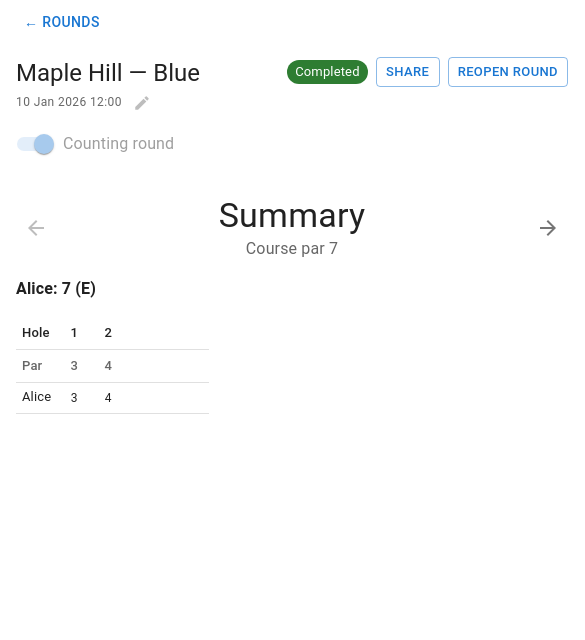
Test: RoundPage › reopens a completed round, restoring the score adjusters
The width and height of the screenshot is (585, 640).
Expected: the text "Completed" is shown, [295,64,360,79]
Click the button "Reopen round". click: (508,72)
box: [448,56,568,87]
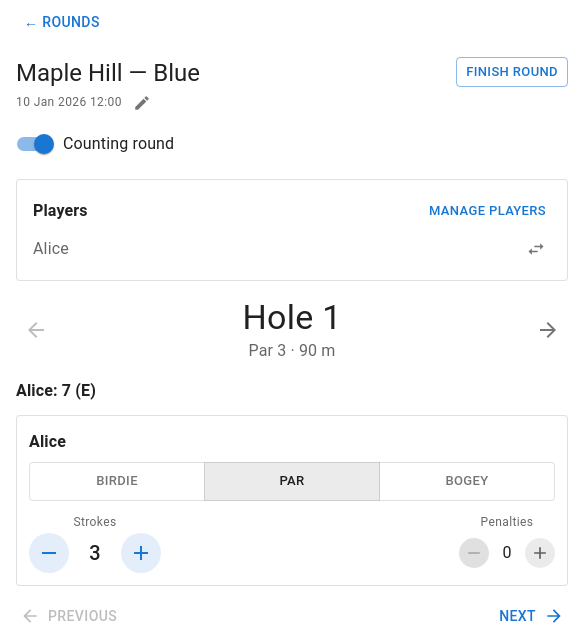
Expected: the button "Finish round" is shown, [456,56,568,87]
Expected: the button named "increase strokes" is shown, [121,533,161,573]
Expected: the heading "Players" is shown, [33,197,88,225]
